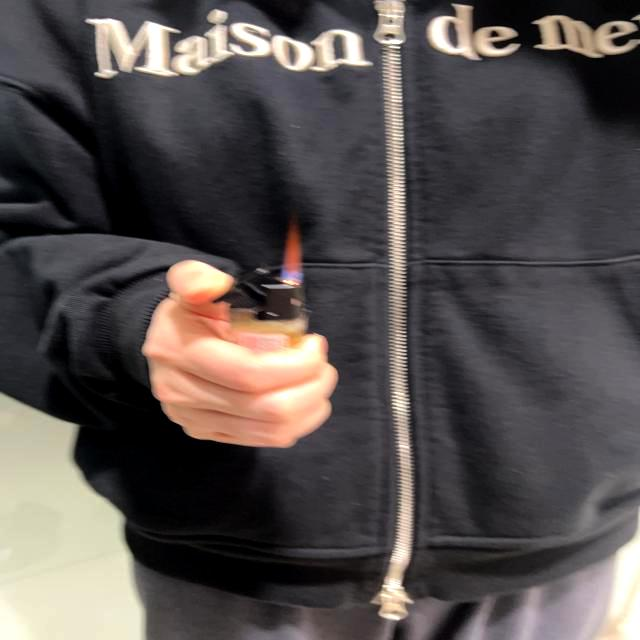fire: (280, 225, 304, 283)
